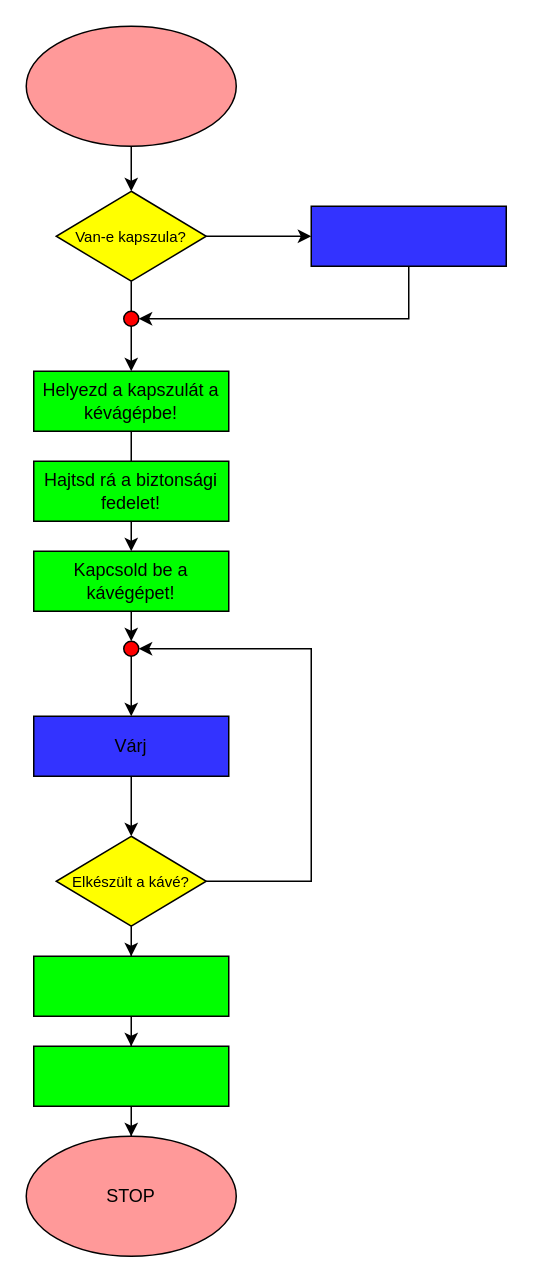
This 533x1283 diagram has some shape labels left out. Here are the shapes that lost their labels. From the top down, the centre of each, then its label:
point (130, 85): START
point (408, 235): Kapszula vásárlása
point (130, 985): Vedd ki az elkészült kávét a gépből!
point (130, 1075): Idd meg a kávét!
